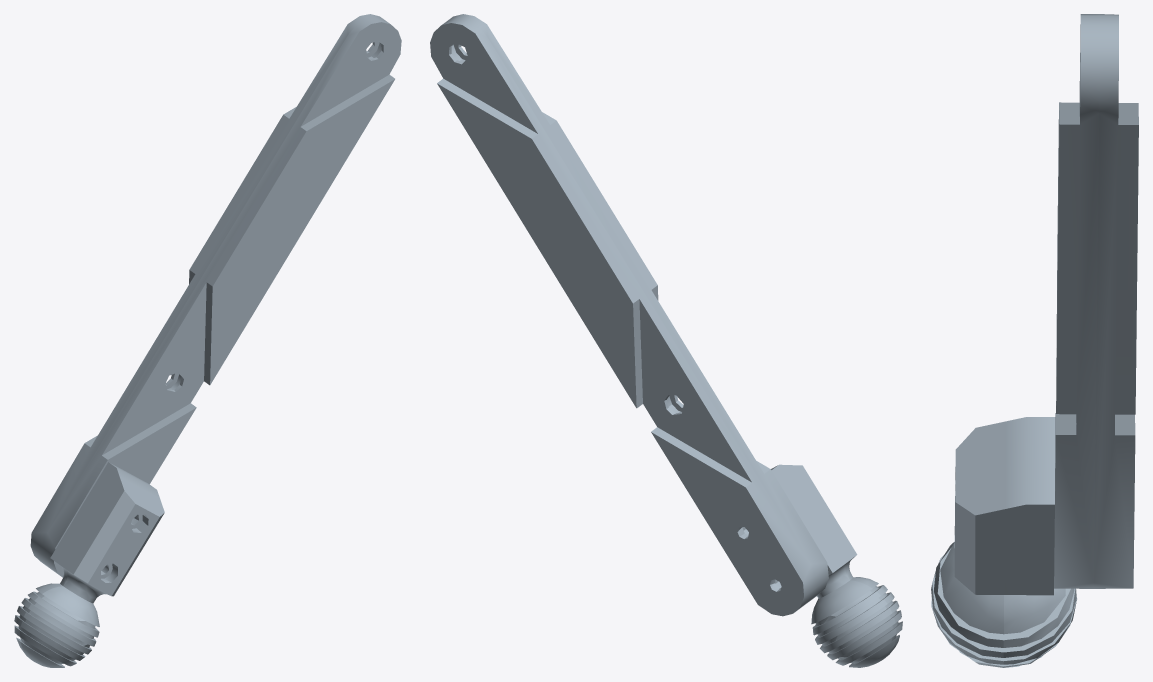
3 renders of one model, left to right at view 1: azimuth 30°, elevation 25°; view 2: azimuth 150°, elevation 25°; view 3: azimuth 270°, elevation 25°, orthographic. The views are drawn at different scales.
Visible parts, largest first — view 1: tmp_export_fl_link2; view 2: tmp_export_fl_link2; view 3: tmp_export_fl_link2.
Boxes of the visible parts, <box> form: tmp_export_fl_link2: <box>14,14,401,667</box>; tmp_export_fl_link2: <box>430,14,902,667</box>; tmp_export_fl_link2: <box>931,14,1138,667</box>.
Size of the model in its own units: 0.1202 by 0.0314 by 0.1541.
